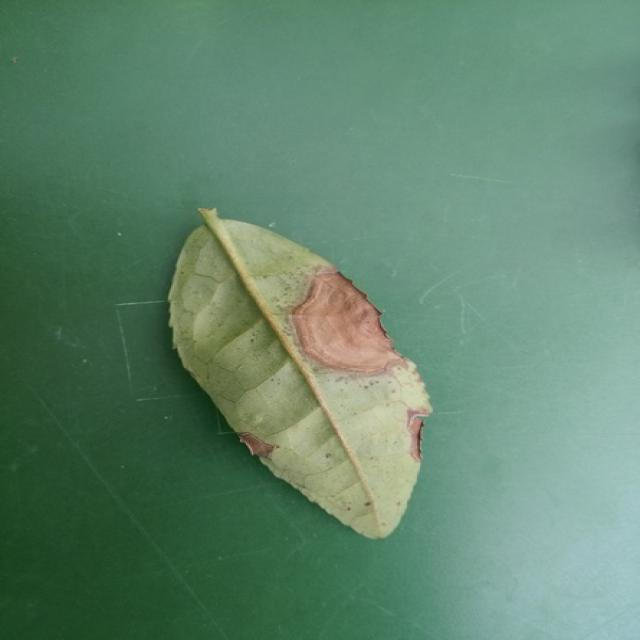Tea cloud leaf blight: (300, 269, 417, 382)
